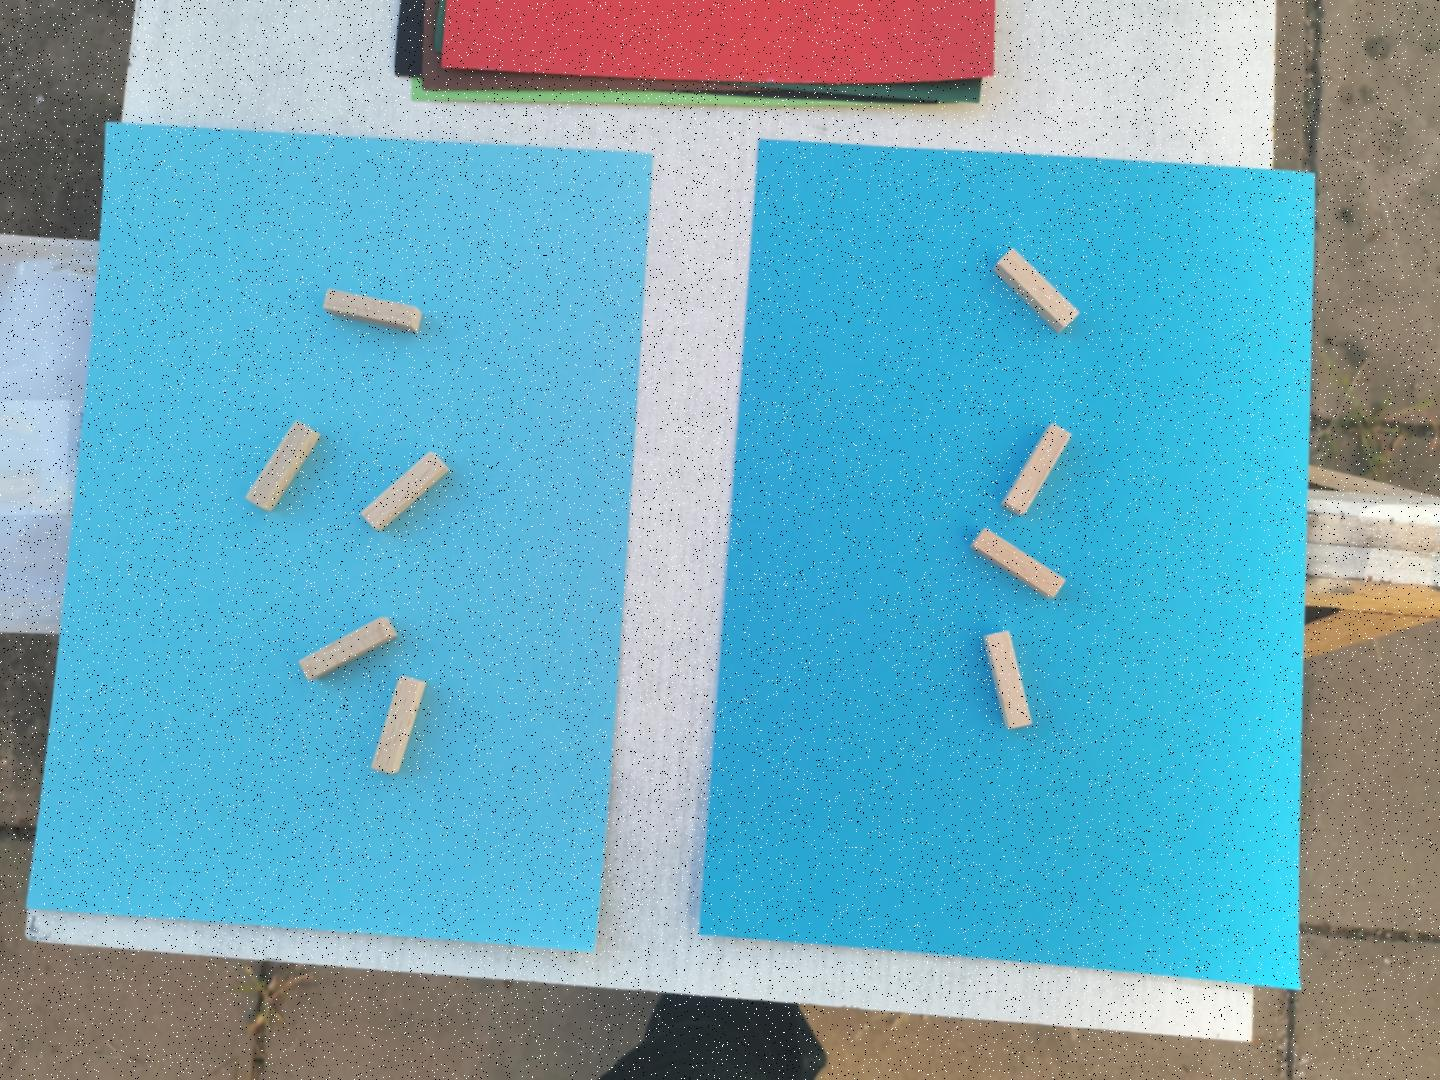jenga: (993, 251, 1077, 332), (247, 422, 321, 512), (971, 529, 1066, 597), (1001, 424, 1071, 515), (298, 616, 397, 681), (363, 453, 447, 529), (371, 677, 425, 774), (984, 633, 1032, 728), (323, 289, 422, 332)
